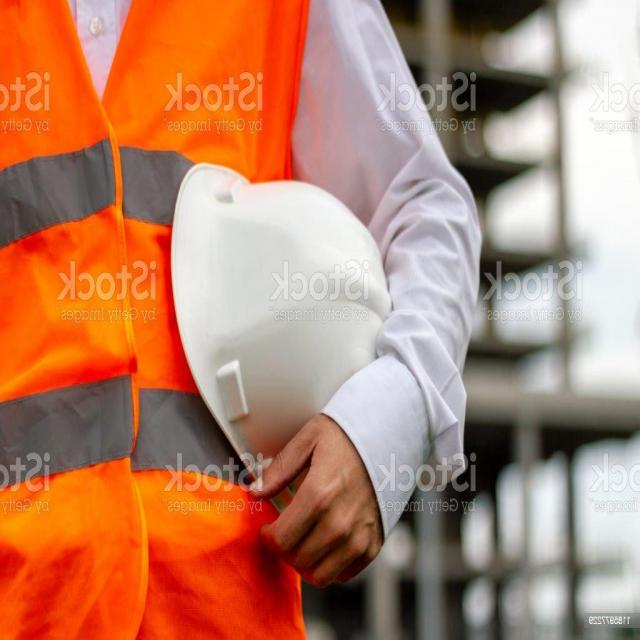Reflective-Jacket: (1, 2, 414, 629)
Safety-Helmet: (167, 142, 429, 507)
